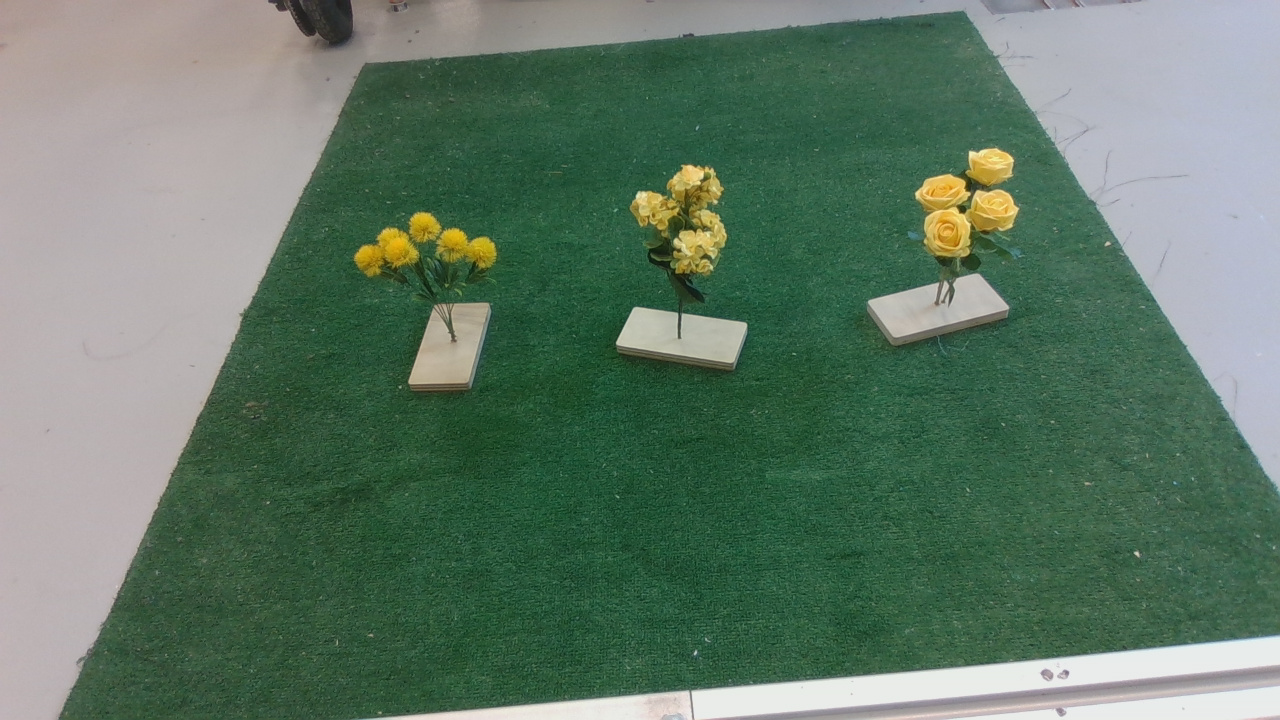dandelion: (341, 213, 515, 313)
geranium: (628, 165, 744, 314)
rose: (906, 147, 1036, 288)
